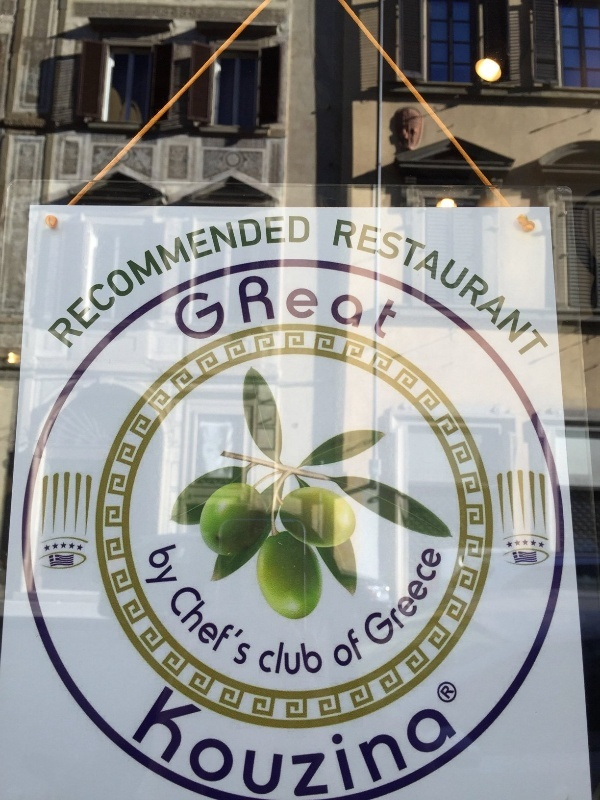text: (33, 168, 48, 355), (49, 168, 64, 355), (65, 168, 80, 355), (81, 168, 96, 355), (97, 168, 112, 355), (113, 168, 128, 355), (129, 168, 144, 355), (145, 168, 160, 355), (161, 168, 176, 355), (177, 168, 192, 355), (193, 168, 208, 355), (209, 168, 224, 355), (225, 168, 240, 355), (241, 168, 256, 355), (257, 168, 272, 355), (273, 168, 288, 355), (289, 168, 304, 355), (353, 197, 368, 371), (369, 197, 384, 371), (385, 197, 400, 371), (401, 197, 416, 371), (417, 197, 432, 371), (433, 197, 448, 371), (449, 197, 464, 371), (465, 197, 480, 371), (481, 197, 496, 371), (497, 197, 512, 371), (513, 197, 528, 371), (529, 197, 544, 371), (545, 197, 560, 371), (339, 197, 352, 371), (177, 686, 192, 797), (193, 686, 208, 797), (209, 686, 224, 797), (225, 686, 240, 797), (241, 686, 256, 797), (257, 686, 272, 797), (273, 686, 288, 797), (289, 686, 304, 797), (305, 686, 320, 797), (321, 686, 336, 797), (337, 686, 352, 797), (353, 686, 368, 797), (369, 686, 384, 797), (385, 686, 400, 797), (401, 686, 416, 797), (417, 686, 432, 797), (433, 686, 448, 797), (449, 686, 464, 797), (465, 686, 480, 797), (481, 686, 496, 797), (369, 546, 384, 657), (385, 546, 400, 657), (401, 546, 416, 657), (417, 546, 432, 657), (433, 546, 448, 657), (193, 573, 208, 679), (209, 573, 224, 679), (225, 573, 240, 679), (561, 197, 570, 371), (241, 573, 253, 679), (165, 686, 176, 797), (181, 573, 192, 679), (26, 168, 32, 355), (305, 168, 311, 355), (177, 269, 192, 342), (193, 269, 208, 342), (209, 269, 224, 342), (225, 269, 240, 342), (241, 269, 256, 342), (257, 269, 272, 342), (273, 269, 288, 342), (289, 269, 304, 342), (305, 269, 320, 342), (321, 269, 336, 342), (337, 269, 352, 342), (353, 269, 368, 342), (369, 269, 384, 342), (385, 269, 400, 342), (359, 546, 368, 657), (401, 269, 412, 342), (337, 626, 352, 676), (161, 542, 176, 584), (353, 626, 365, 676), (273, 638, 288, 677), (289, 638, 304, 677), (305, 638, 320, 677), (168, 269, 176, 342), (260, 638, 272, 677), (149, 542, 160, 584), (497, 686, 501, 797), (449, 546, 452, 657), (330, 626, 336, 676), (321, 638, 324, 677), (442, 684, 448, 703), (449, 684, 455, 703), (177, 542, 178, 584)
